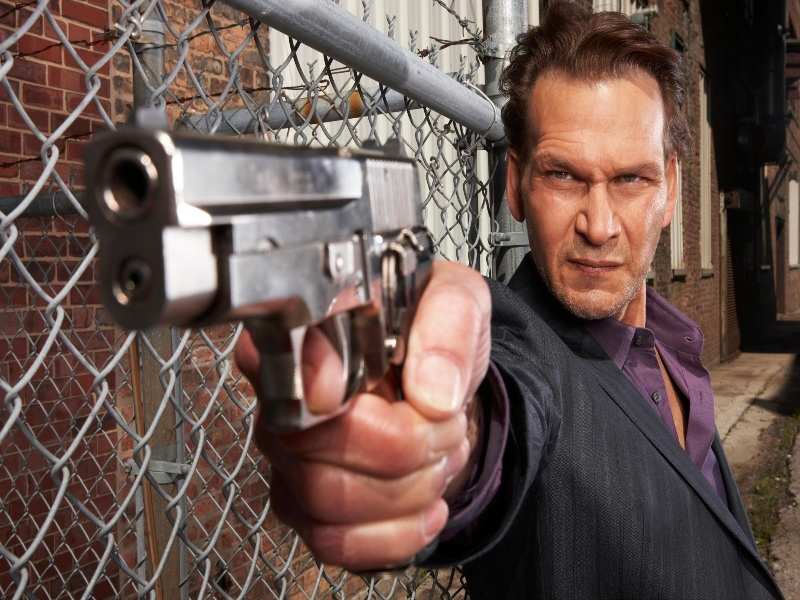person: (233, 1, 783, 600)
weapon: (83, 106, 437, 428)
